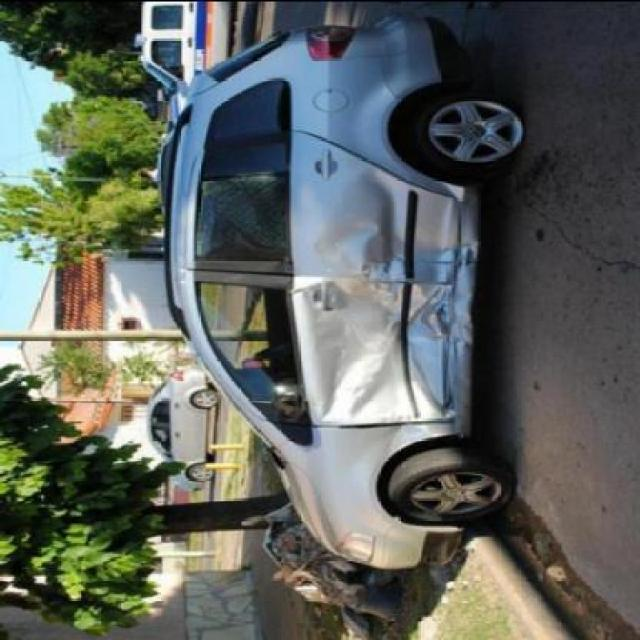damage: (291, 166, 478, 427), (190, 168, 297, 265), (174, 251, 186, 284)
